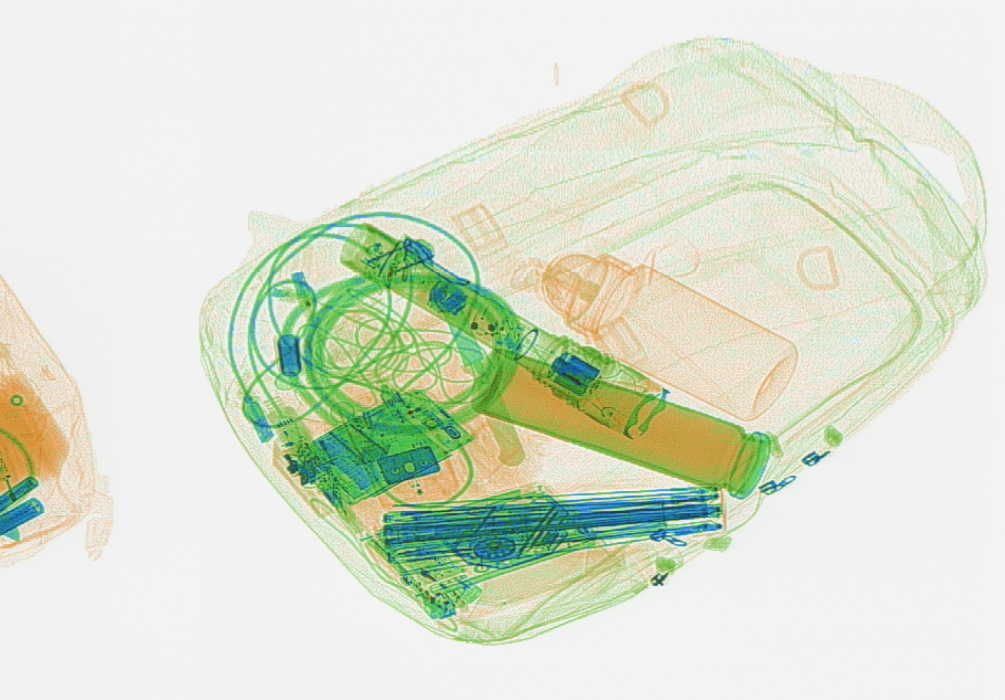knife: (428, 258, 524, 467)
